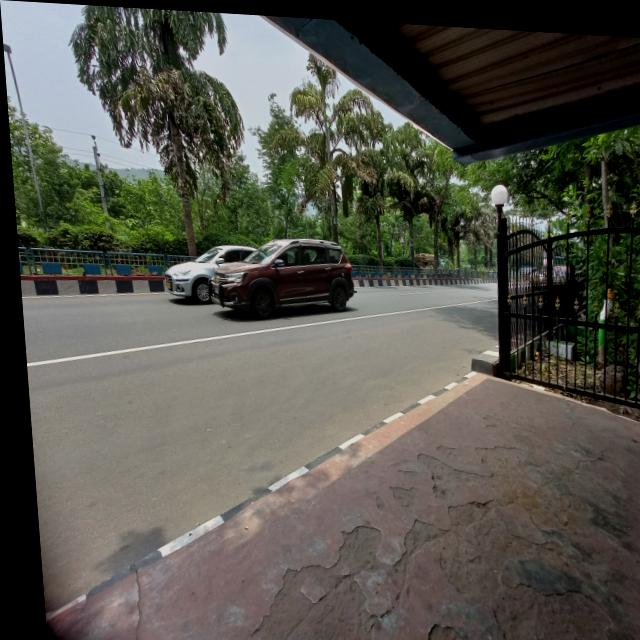car: (209, 230, 363, 320), (149, 228, 234, 308)
